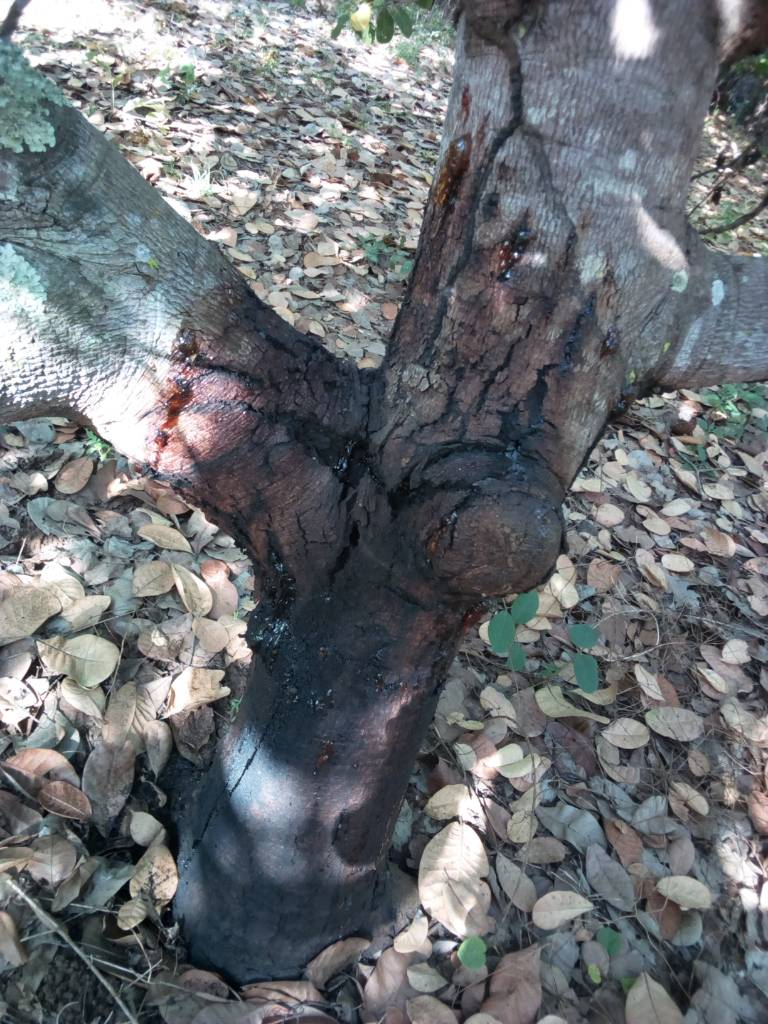Gommose: (149, 208, 607, 889)
